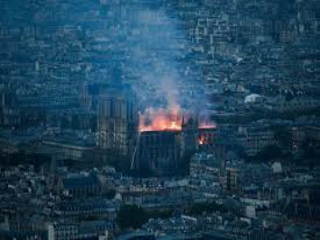fire: (138, 106, 212, 135)
smoke: (132, 13, 185, 117)
